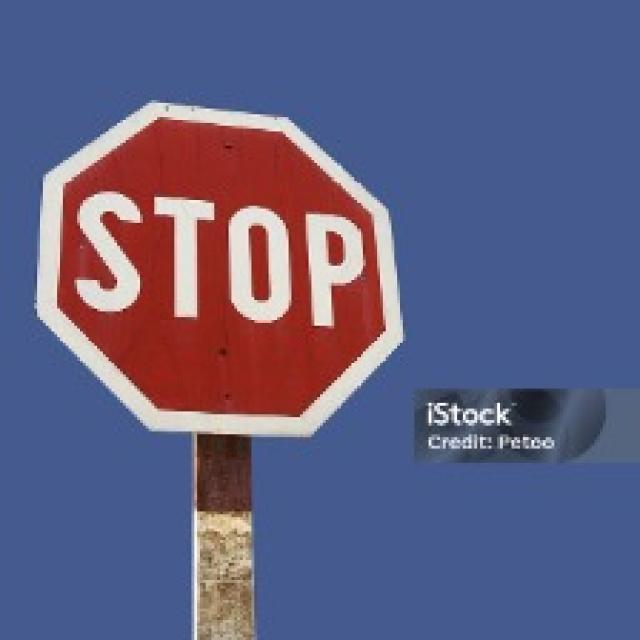stop: (34, 99, 404, 439)
